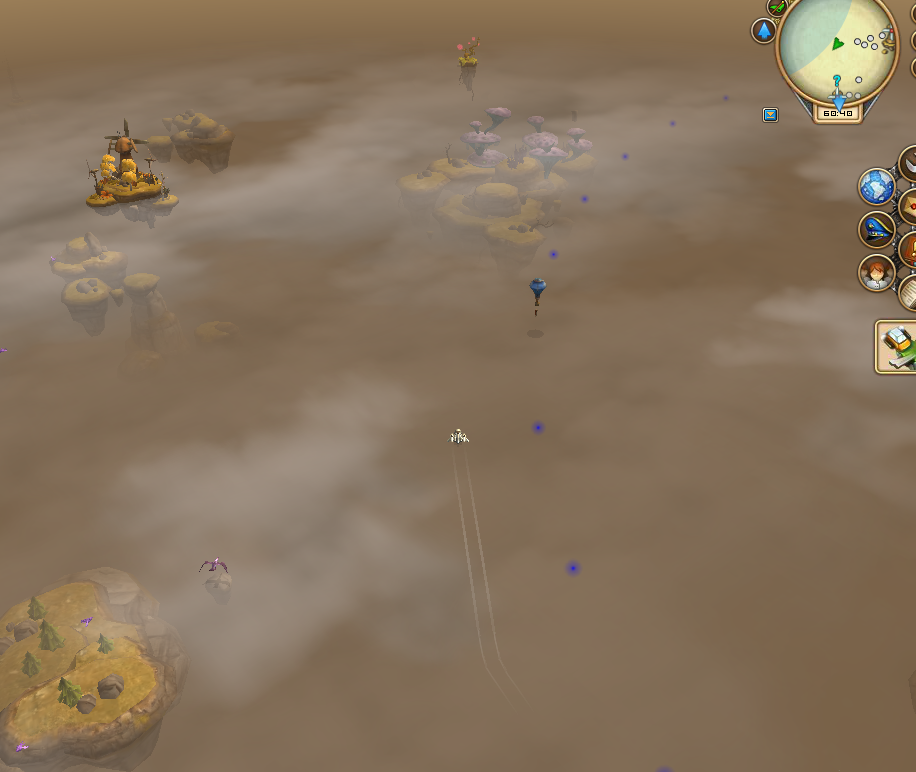dandelion-full: (450, 27, 486, 96)
